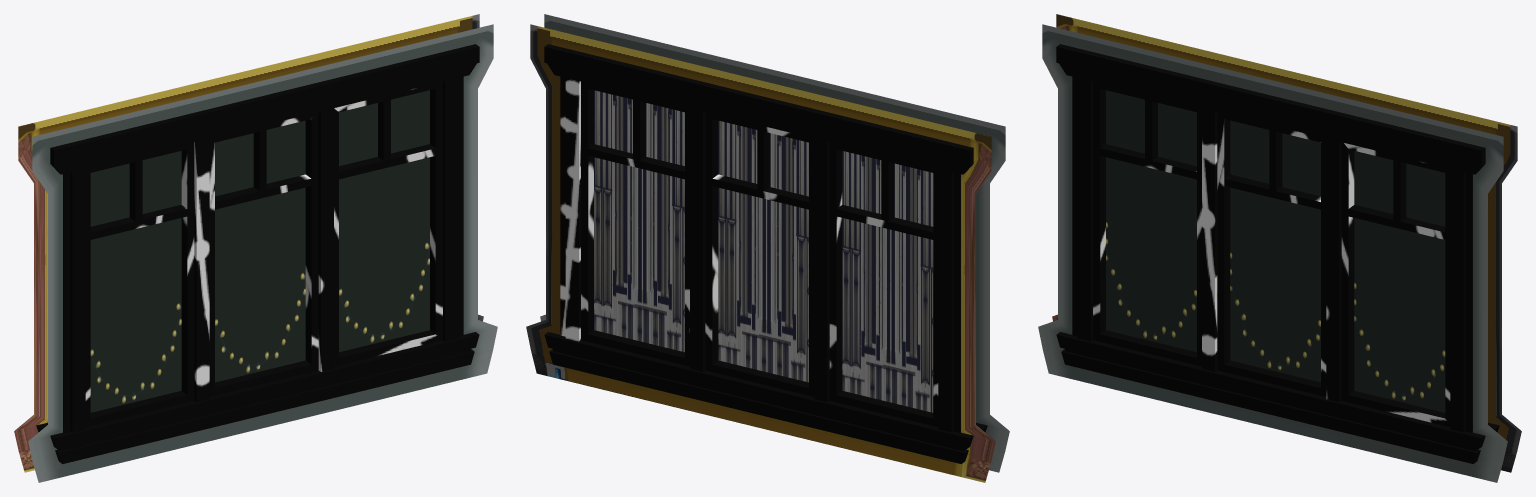
The model's file is vrwer.obj.
The picture shows the model from 3 angles, left to right: view 1: azimuth 30°, elevation 25°; view 2: azimuth 150°, elevation 25°; view 3: azimuth 330°, elevation 25°; orthographic projection.
Parts seen in each view (by area): view 1: s4studio_mesh_5, s4studio_mesh_3, s4studio_mesh_1, s4studio_mesh_0, s4studio_mesh_4; view 2: s4studio_mesh_6, s4studio_mesh_2, s4studio_mesh_0, s4studio_mesh_1, s4studio_mesh_4; view 3: s4studio_mesh_5, s4studio_mesh_3, s4studio_mesh_1, s4studio_mesh_0, s4studio_mesh_4.
Boxes of the visible parts, bbox=[...] form: s4studio_mesh_5: bbox=[50, 44, 479, 463]; s4studio_mesh_3: bbox=[90, 90, 429, 412]; s4studio_mesh_1: bbox=[28, 24, 497, 482]; s4studio_mesh_0: bbox=[14, 14, 483, 472]; s4studio_mesh_4: bbox=[90, 89, 435, 418]; s4studio_mesh_6: bbox=[544, 44, 973, 463]; s4studio_mesh_2: bbox=[594, 90, 933, 412]; s4studio_mesh_0: bbox=[526, 24, 995, 482]; s4studio_mesh_1: bbox=[540, 14, 1009, 472]; s4studio_mesh_4: bbox=[588, 89, 933, 418]; s4studio_mesh_5: bbox=[1056, 44, 1485, 463]; s4studio_mesh_3: bbox=[1106, 90, 1445, 412]; s4studio_mesh_1: bbox=[1038, 24, 1507, 482]; s4studio_mesh_0: bbox=[1052, 14, 1521, 472]; s4studio_mesh_4: bbox=[1100, 89, 1445, 418].
Bounding box in the file's own units: 3.12 × 2.2 × 0.249.
